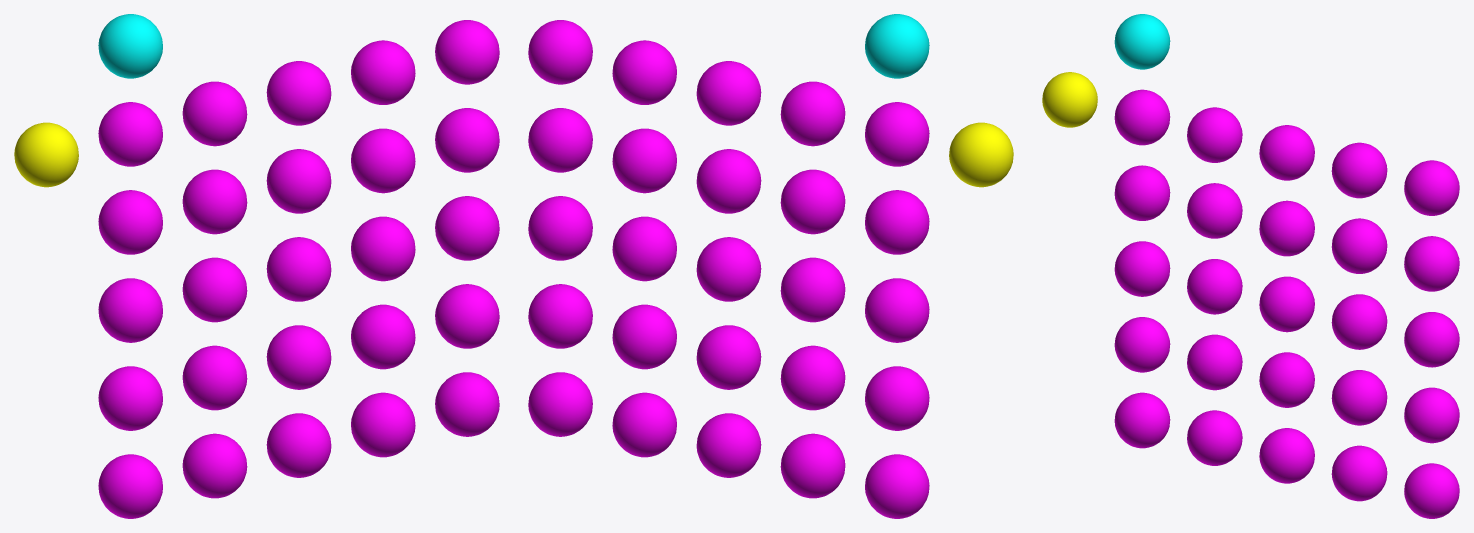
The model's file is metal_rough_balls.gltf.
The picture shows the model from 3 angles, left to right: view 1: azimuth 30°, elevation 25°; view 2: azimuth 150°, elevation 25°; view 3: azimuth 330°, elevation 25°; orthographic projection. The views are drawn at different scales.
Parts seen in each view (by area): view 1: Sphere.014, Sphere.007, Sphere.004, Sphere.011, Sphere.012, Sphere.026, Sphere.002, Sphere.008, Sphere.003, Sphere.010, Sphere, Sphere.006 (+15 smaller); view 2: Sphere.014, Sphere.007, Sphere.004, Sphere.011, Sphere.012, Sphere.026, Sphere.002, Sphere.008, Sphere.003, Sphere.010, Sphere, Sphere.006 (+15 smaller); view 3: Sphere.019, Sphere.002, Sphere.024, Sphere.001, Sphere.016, Sphere.022, Sphere.005, Sphere.015, Sphere.017, Sphere.023, Sphere.026, Sphere.013 (+15 smaller).
Part boxes in pixels (x1,y1,x2,y2): Sphere.014: (266,149,331,213); Sphere.007: (351,304,415,369); Sphere.004: (98,366,162,430); Sphere.011: (351,216,415,281); Sphere.012: (98,190,162,254); Sphere.026: (14,122,78,187); Sphere.002: (266,413,331,477); Sphere.008: (98,278,162,342); Sphere.003: (351,392,415,457); Sphere.010: (266,237,331,301); Sphere: (98,454,162,518); Sphere.006: (266,325,331,389); Sphere.014: (696,149,761,213); Sphere.007: (612,304,676,369); Sphere.004: (865,366,929,430); Sphere.011: (612,216,676,281); Sphere.012: (865,190,929,254); Sphere.026: (949,122,1013,187); Sphere.002: (696,413,761,477); Sphere.008: (865,278,929,342); Sphere.003: (612,392,676,457); Sphere.010: (696,237,761,301); Sphere: (865,454,929,518); Sphere.006: (696,325,761,389); Sphere.019: (1404,236,1459,291); Sphere.002: (1259,428,1314,483); Sphere.024: (1404,160,1459,215); Sphere.001: (1187,410,1242,465); Sphere.016: (1404,463,1459,518); Sphere.022: (1259,125,1314,180); Sphere.005: (1187,334,1242,390); Sphere.015: (1331,218,1387,273); Sphere.017: (1404,387,1459,443); Sphere.023: (1331,142,1387,198); Sphere.026: (1042,72,1097,127); Sphere.013: (1187,183,1242,238).
Size of the model in its own units: 17 by 17 by 2.
